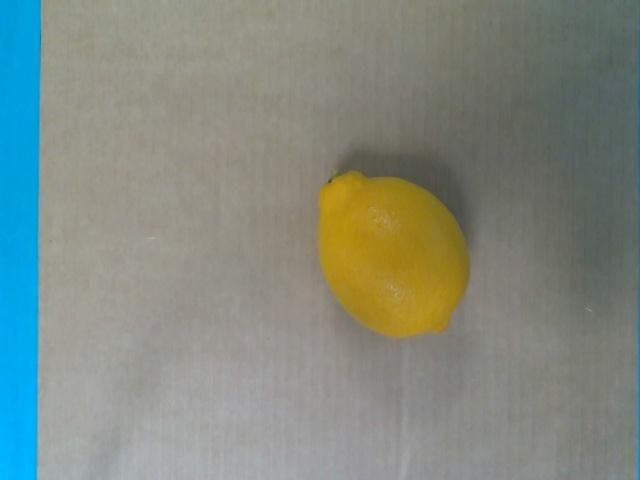lemon: (317, 171, 471, 339)
